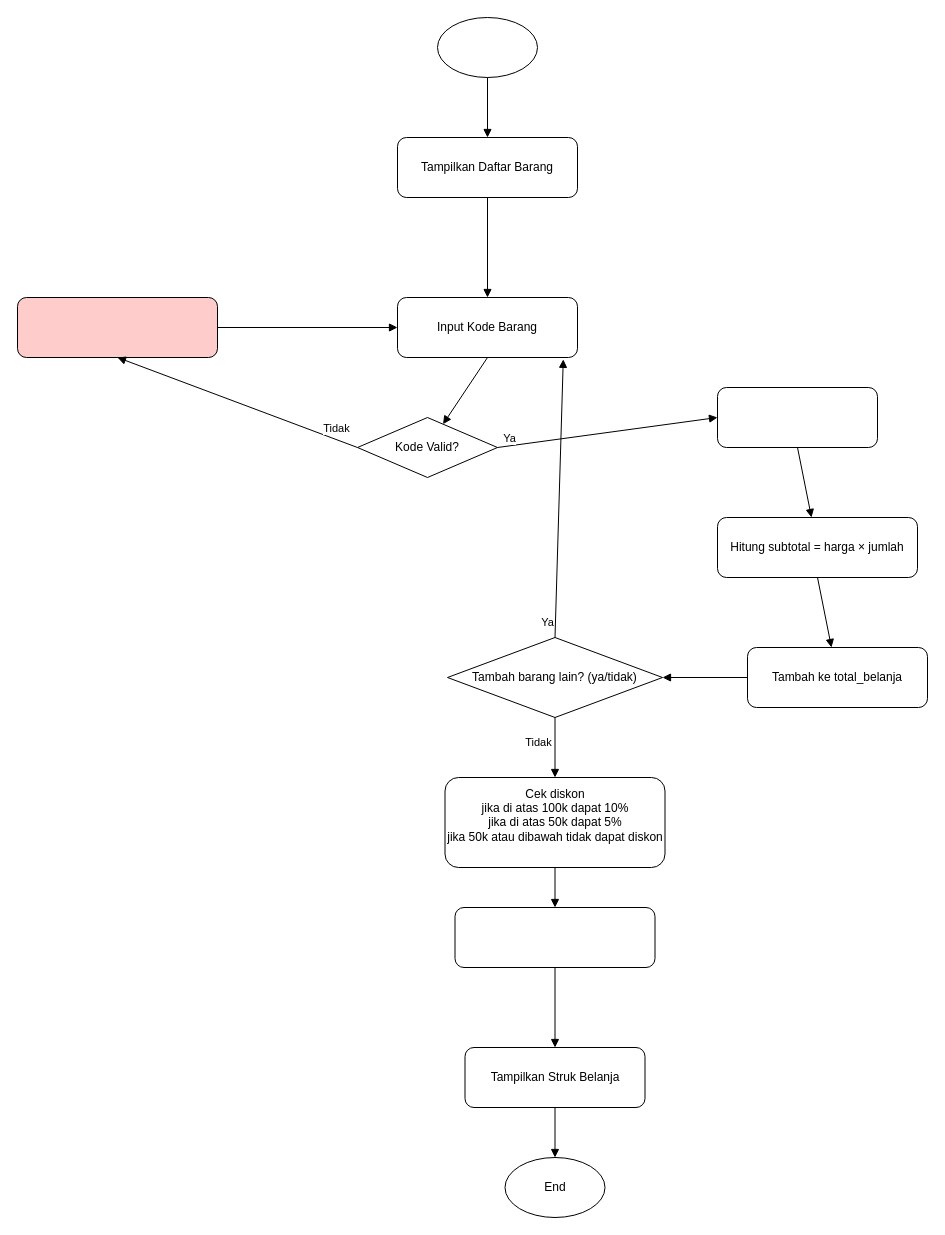
The diagram is 945 pixels wide and 1235 high, and some of its shapes have lost their labels. The centre of each missing label's shape, as x and y in pixels:
"Input Jumlah Beli" belongs at pixel 797 417.
"Start" belongs at pixel 487 47.
"Tampilkan 'Kode barang tidak ditemukan'" belongs at pixel 117 327.
"Total bayar = total - diskon" belongs at pixel 554 937.
